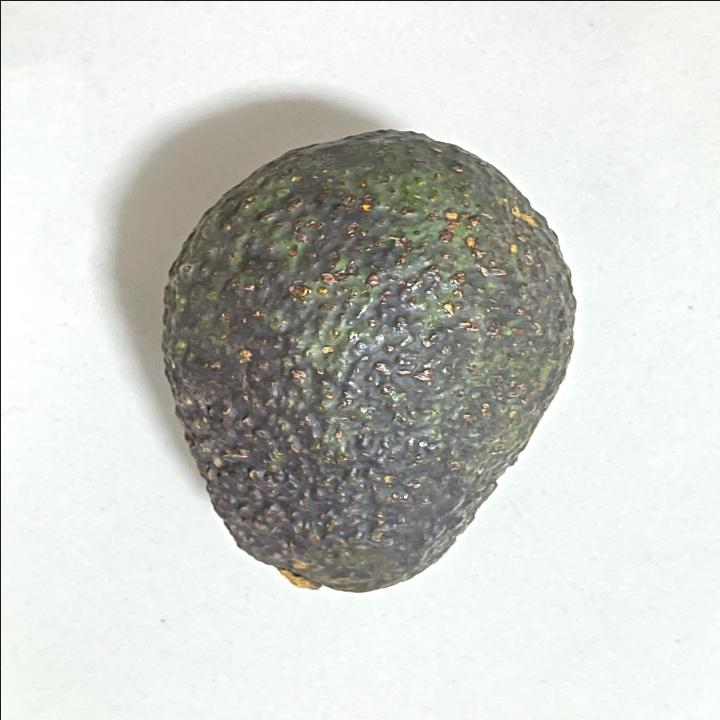Level1: (141, 116, 602, 604)
